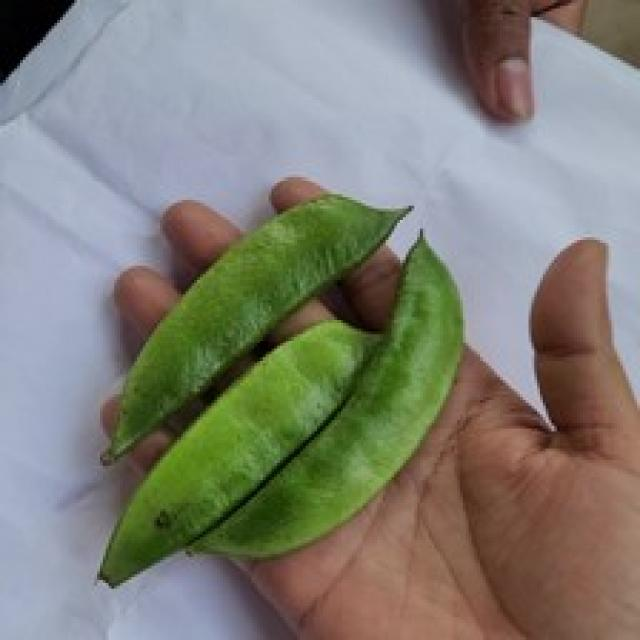Bean: (94, 186, 463, 588)
